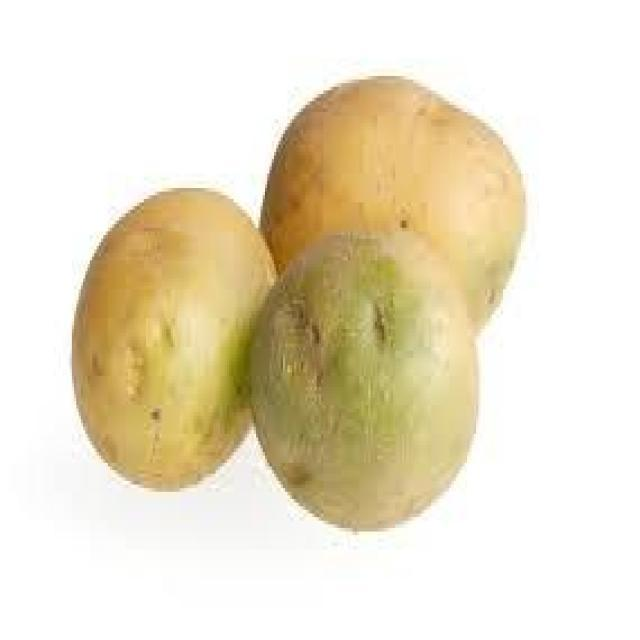Potato: (247, 228, 506, 532), (258, 76, 526, 315), (70, 189, 279, 494)
